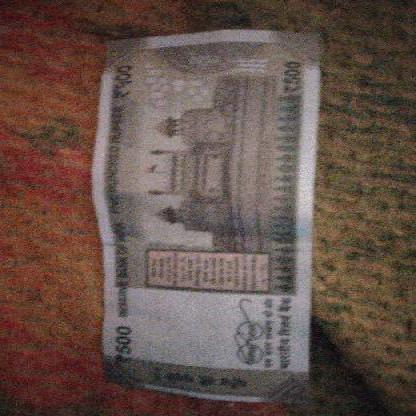New500Back: (99, 38, 309, 396)
